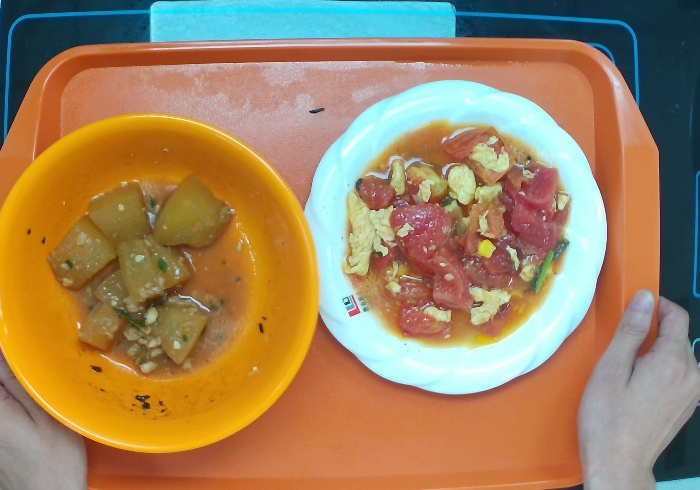ZNLD-Hua_Bian_Wan: (301, 78, 610, 396)
ZNLD-Ju_Se_Tang_Wan: (1, 111, 322, 454)
